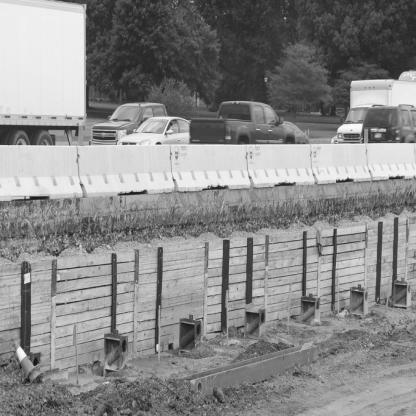car: (97, 97, 166, 137), (114, 116, 192, 151), (338, 100, 371, 147)
truck: (191, 89, 299, 155)
